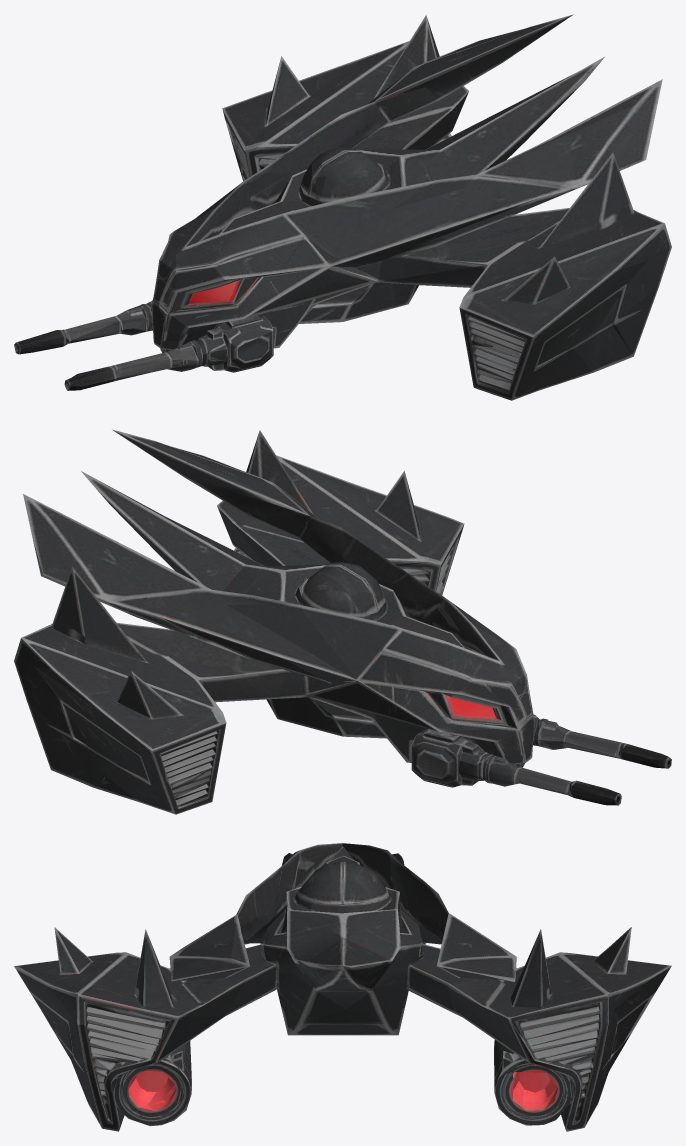
Rendered from Boss1-v2.glb.
The picture shows the model from 3 angles, top to bottom: view 1: azimuth 30°, elevation 25°; view 2: azimuth 150°, elevation 25°; view 3: azimuth 270°, elevation 25°; orthographic projection. The views are drawn at different scales.
Visible parts, largest first — view 1: output_unwrapped; view 2: output_unwrapped; view 3: output_unwrapped.
Boxes of the visible parts, left/top/right/bottom form: output_unwrapped: left=14, top=14, right=671, bottom=400; output_unwrapped: left=14, top=429, right=671, bottom=814; output_unwrapped: left=14, top=843, right=671, bottom=1131.
Size of the model in its own units: 1.9 by 0.6479 by 1.78.
1 material, 1 textured.
